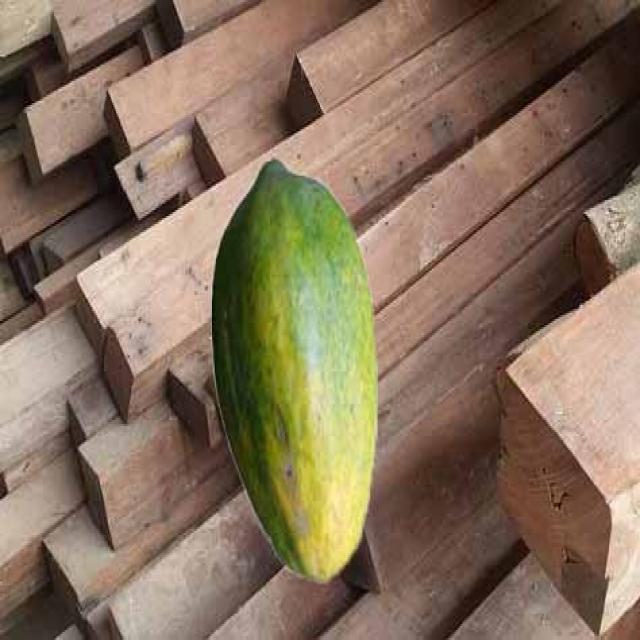Pepaya rippen: (210, 154, 384, 576)
